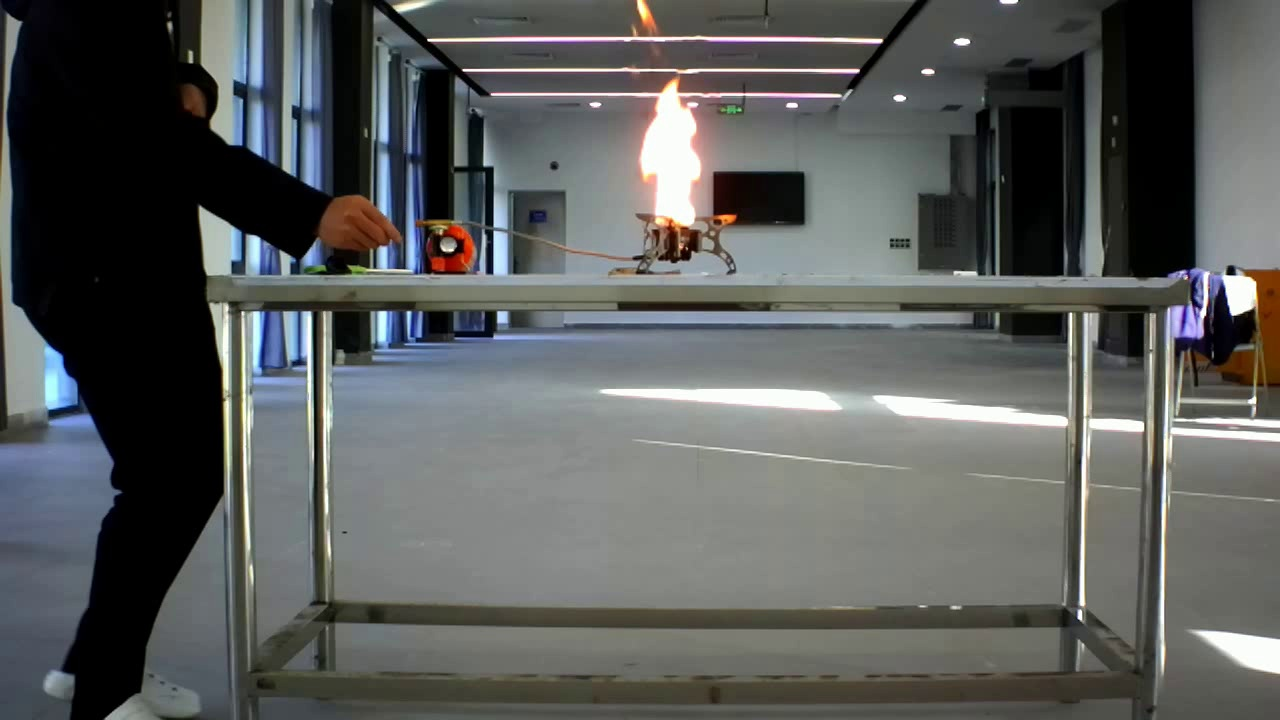Fire: (617, 66, 743, 262)
